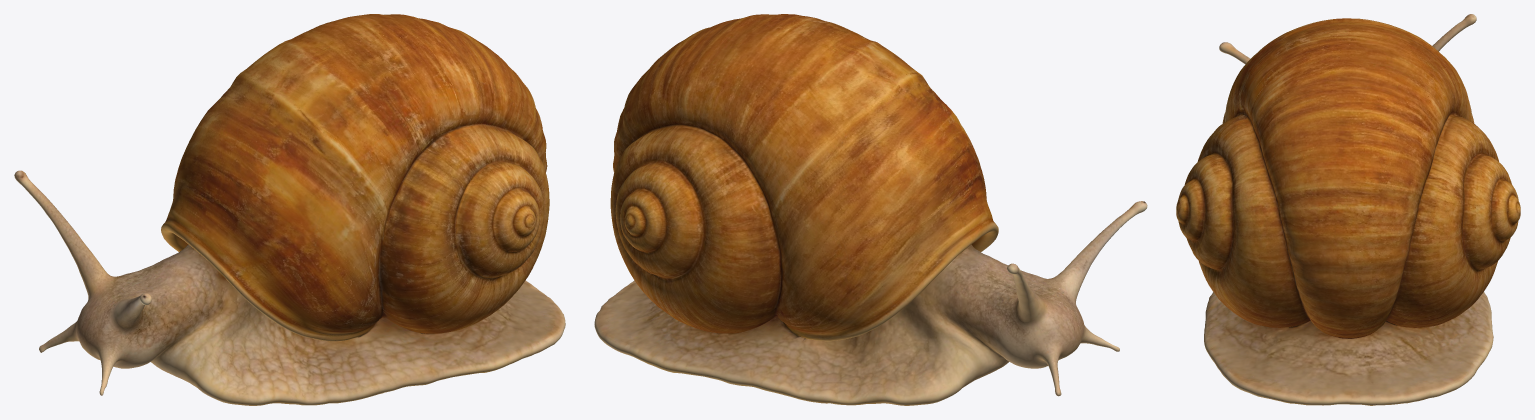
The model's file is snail+3d+model.glb.
3 renders of one model, left to right at view 1: azimuth 30°, elevation 25°; view 2: azimuth 150°, elevation 25°; view 3: azimuth 270°, elevation 25°, orthographic. The views are drawn at different scales.
Parts seen in each view (by area): view 1: tripo_node_1fa545b0-e265-4143-8348-e18d71a3d132; view 2: tripo_node_1fa545b0-e265-4143-8348-e18d71a3d132; view 3: tripo_node_1fa545b0-e265-4143-8348-e18d71a3d132.
Part boxes in pixels (x1=…): tripo_node_1fa545b0-e265-4143-8348-e18d71a3d132: x1=14, y1=14, x2=565, y2=405; tripo_node_1fa545b0-e265-4143-8348-e18d71a3d132: x1=594, y1=14, x2=1147, y2=405; tripo_node_1fa545b0-e265-4143-8348-e18d71a3d132: x1=1176, y1=14, x2=1520, y2=405.
Size of the model in its own units: 0.9949 by 0.6257 by 0.6598.
1 material, 1 textured.
